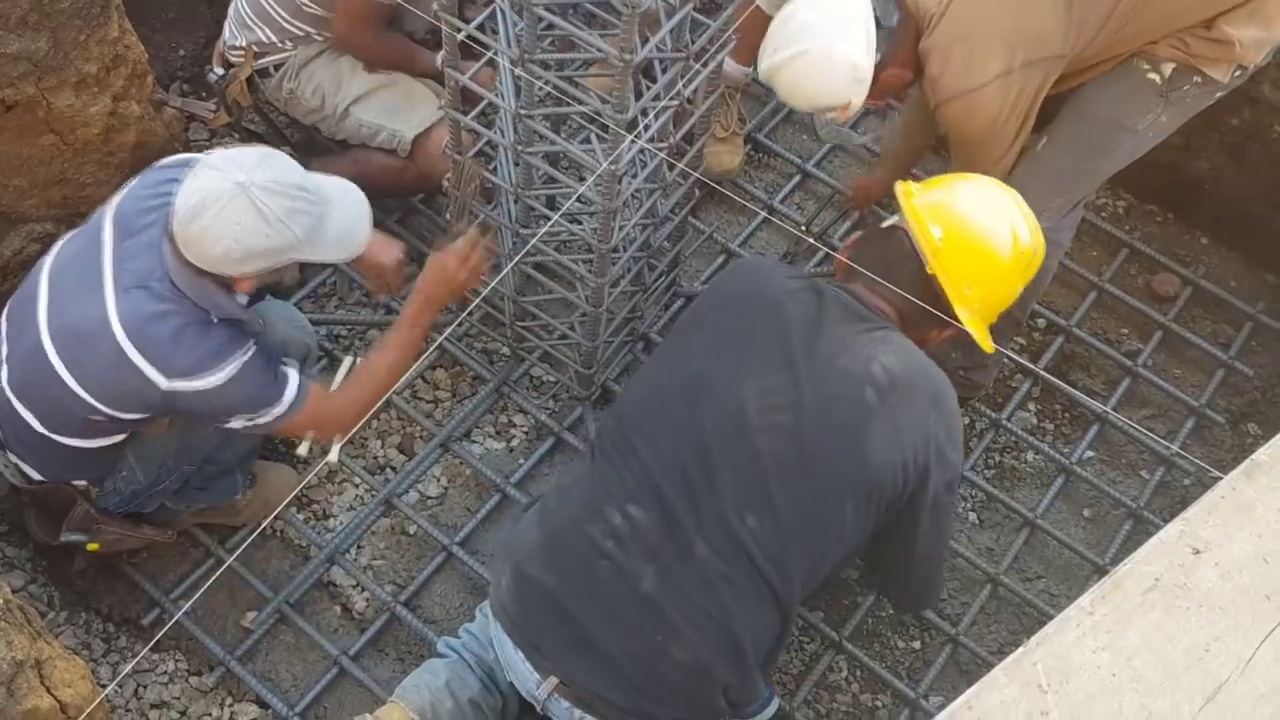helmet: (900, 172, 1047, 360), (753, 2, 886, 117)
helmet-off: (163, 151, 384, 313)
helmet-on: (822, 159, 1051, 360), (745, 3, 942, 116)
person: (358, 158, 1066, 720), (0, 139, 491, 551), (746, 0, 1280, 302), (200, 0, 495, 190)
